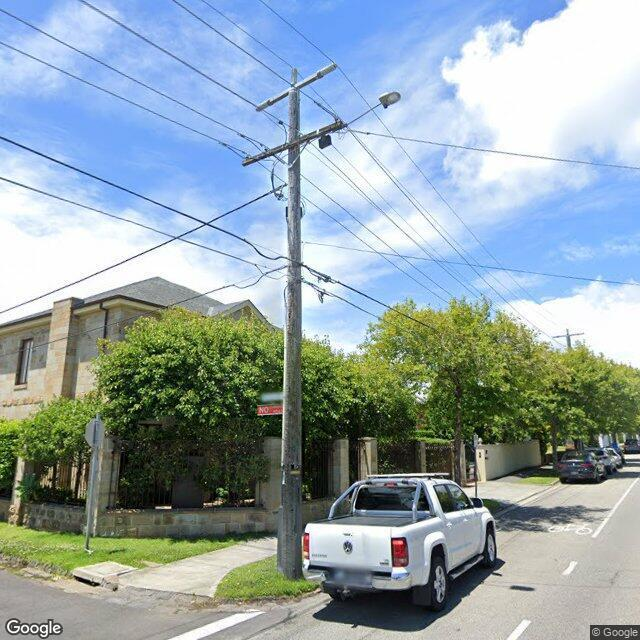HV-transmission: (255, 63, 337, 111), (552, 328, 584, 338)
crossarm: (242, 120, 344, 166), (268, 71, 322, 105), (558, 334, 577, 337)
streetlight: (343, 91, 402, 127)
timber-pole: (277, 90, 303, 580), (566, 334, 571, 348)
